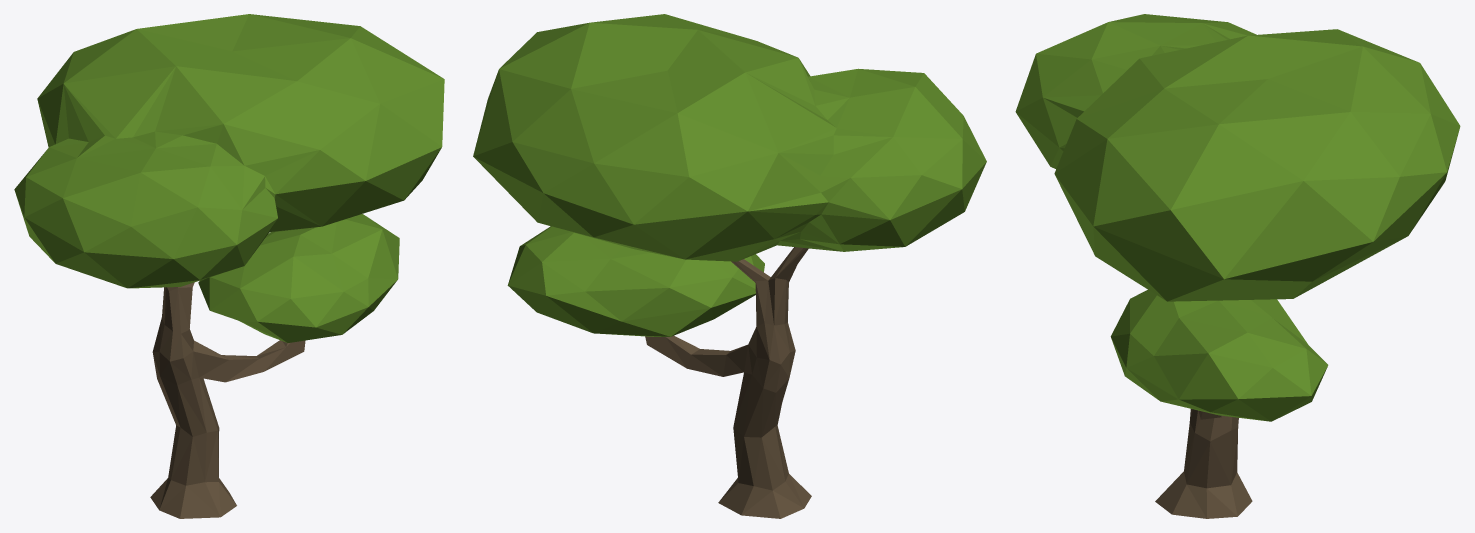
The model's file is Tree_Placeable.fbx.
3 renders of one model, left to right at view 1: azimuth 30°, elevation 25°; view 2: azimuth 150°, elevation 25°; view 3: azimuth 270°, elevation 25°, orthographic. The views are drawn at different scales.
Parts seen in each view (by area): view 1: Tree; view 2: Tree; view 3: Tree.
Boxes of the visible parts, x1=… form: Tree: x1=14, y1=14, x2=444, y2=518; Tree: x1=473, y1=14, x2=986, y2=518; Tree: x1=1015, y1=14, x2=1460, y2=518.
Size of the model in its own units: 551 by 509 by 441.
